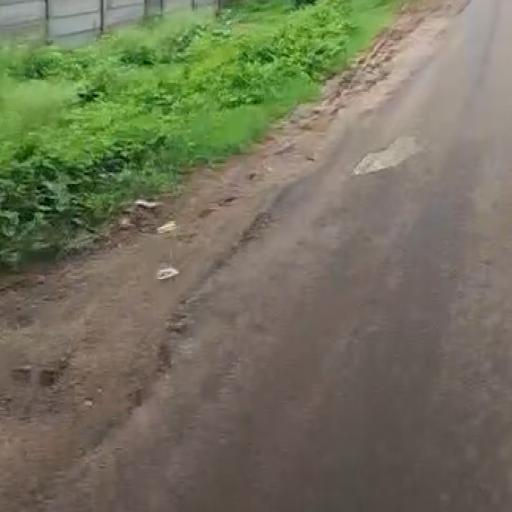edge_damage: (153, 212, 305, 334), (68, 345, 209, 468)
pothole: (344, 128, 426, 196)
